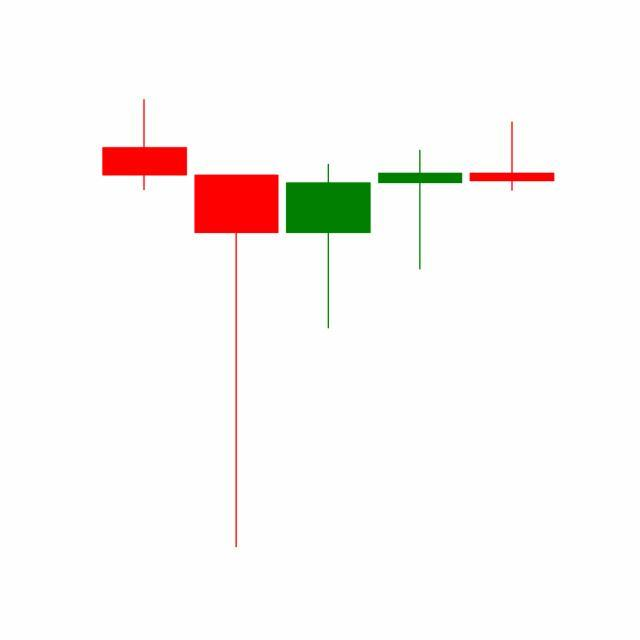Spinning Top: (374, 148, 468, 272)
